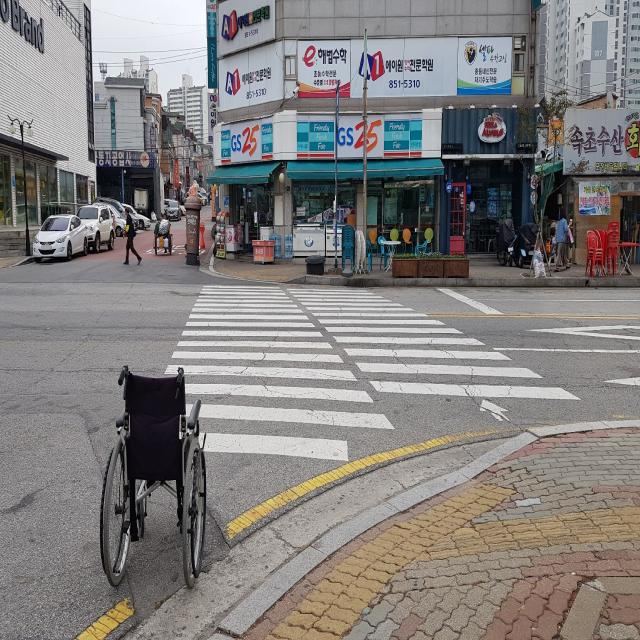횡단보도: (164, 285, 580, 464)
